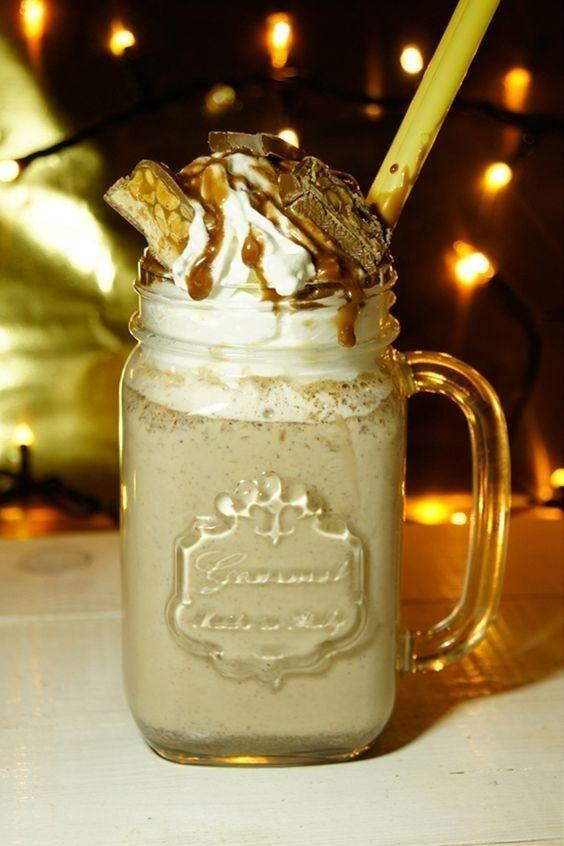glass-mug: (106, 261, 518, 778)
